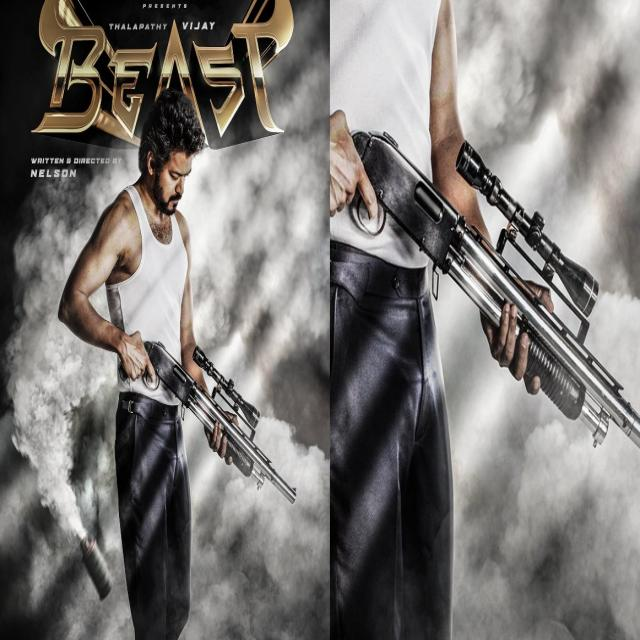Weapon: (354, 133, 640, 447), (145, 343, 295, 503), (459, 145, 524, 219)
